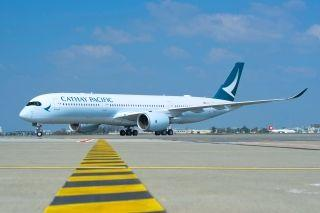airplane: (17, 61, 310, 136)
